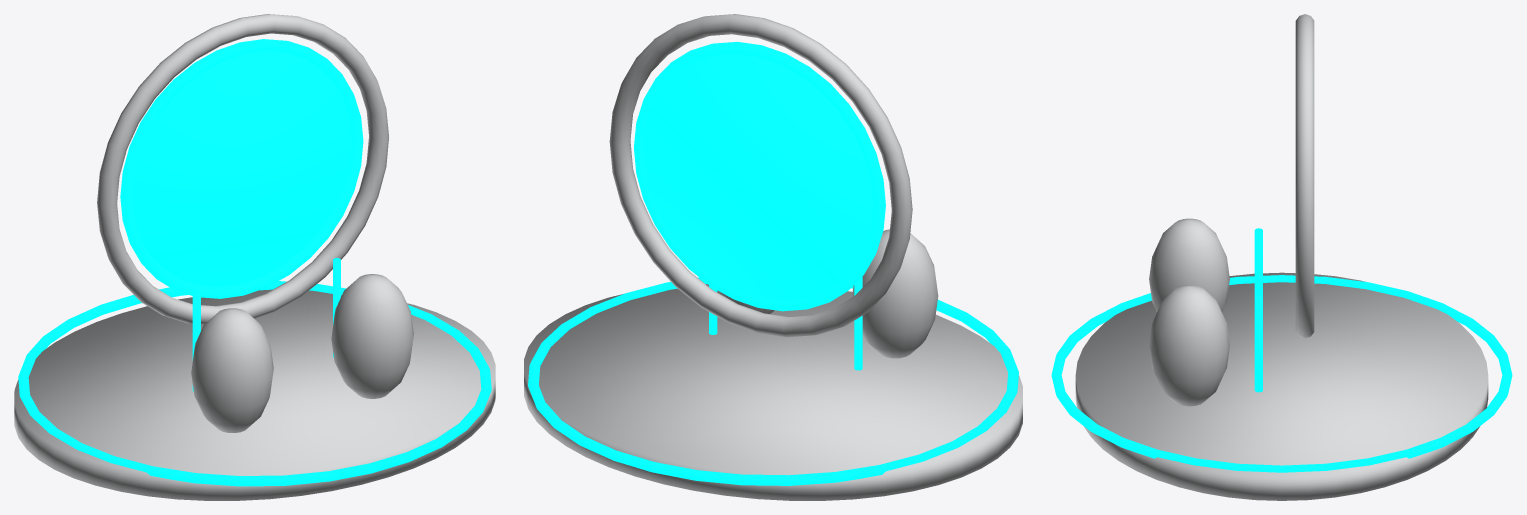
The model's file is azure_portal_spire.glb.
The picture shows the model from 3 angles, left to right: view 1: azimuth 30°, elevation 25°; view 2: azimuth 150°, elevation 25°; view 3: azimuth 270°, elevation 25°; orthographic projection. The views are drawn at different scales.
Visible parts, largest first — view 1: AzurePortalSpire; view 2: AzurePortalSpire; view 3: AzurePortalSpire.
Part boxes in pixels (left/top/right/bottom): AzurePortalSpire: left=14, top=14, right=495, bottom=500; AzurePortalSpire: left=524, top=14, right=1022, bottom=500; AzurePortalSpire: left=1051, top=14, right=1512, bottom=500.
Bounding box in the file's own units: 4.2 × 3.53 × 3.99.
